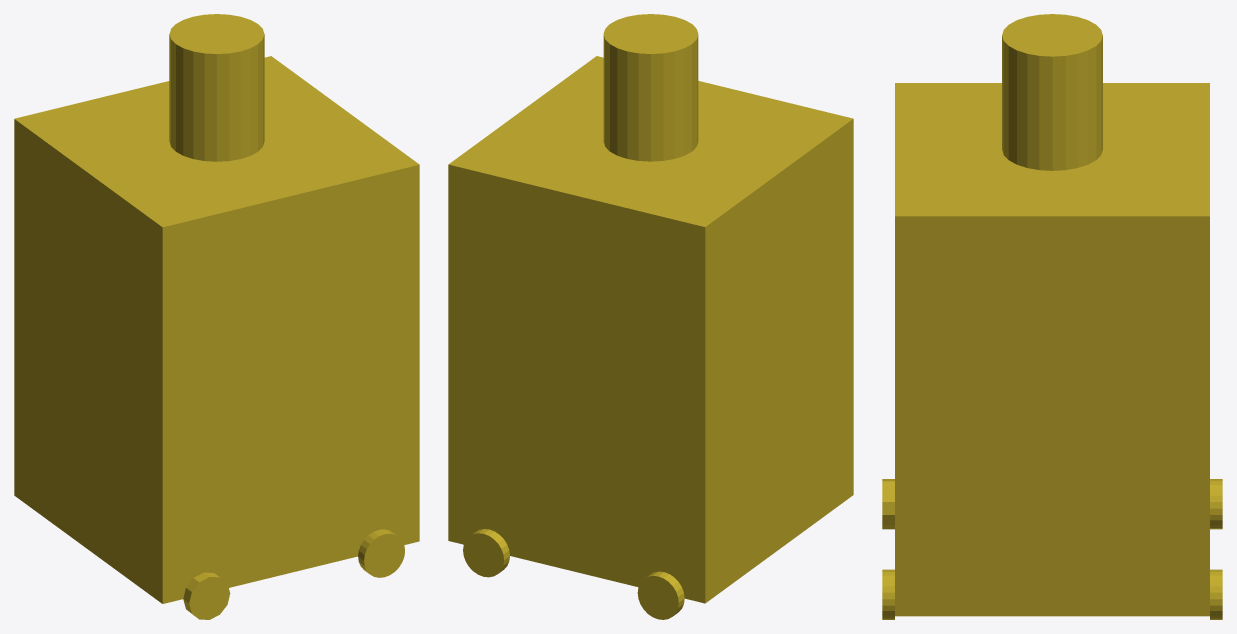
File: gr_jaune-old.dae
The picture shows the model from 3 angles, left to right: view 1: azimuth 30°, elevation 25°; view 2: azimuth 150°, elevation 25°; view 3: azimuth 270°, elevation 25°; orthographic projection. The views are drawn at different scales.
Parts seen in each view (by area): view 1: Group35; view 2: Group35; view 3: Group35.
Boxes of the visible parts, x1=… form: Group35: x1=14, y1=14, x2=419, y2=619; Group35: x1=448, y1=14, x2=853, y2=619; Group35: x1=882, y1=14, x2=1222, y2=619.
Bounding box in the file's own units: 0.2671 × 0.2885 × 0.5022.
